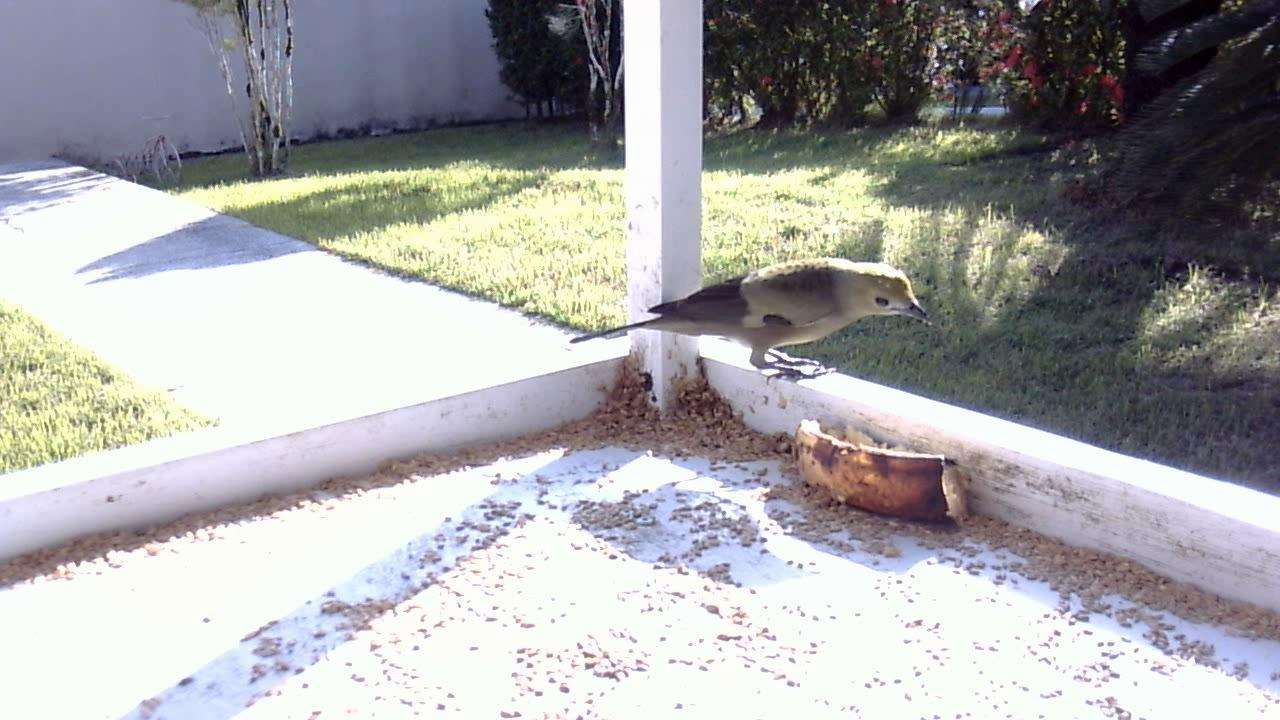sanhaco_do_coqueiro: (565, 248, 928, 395)
